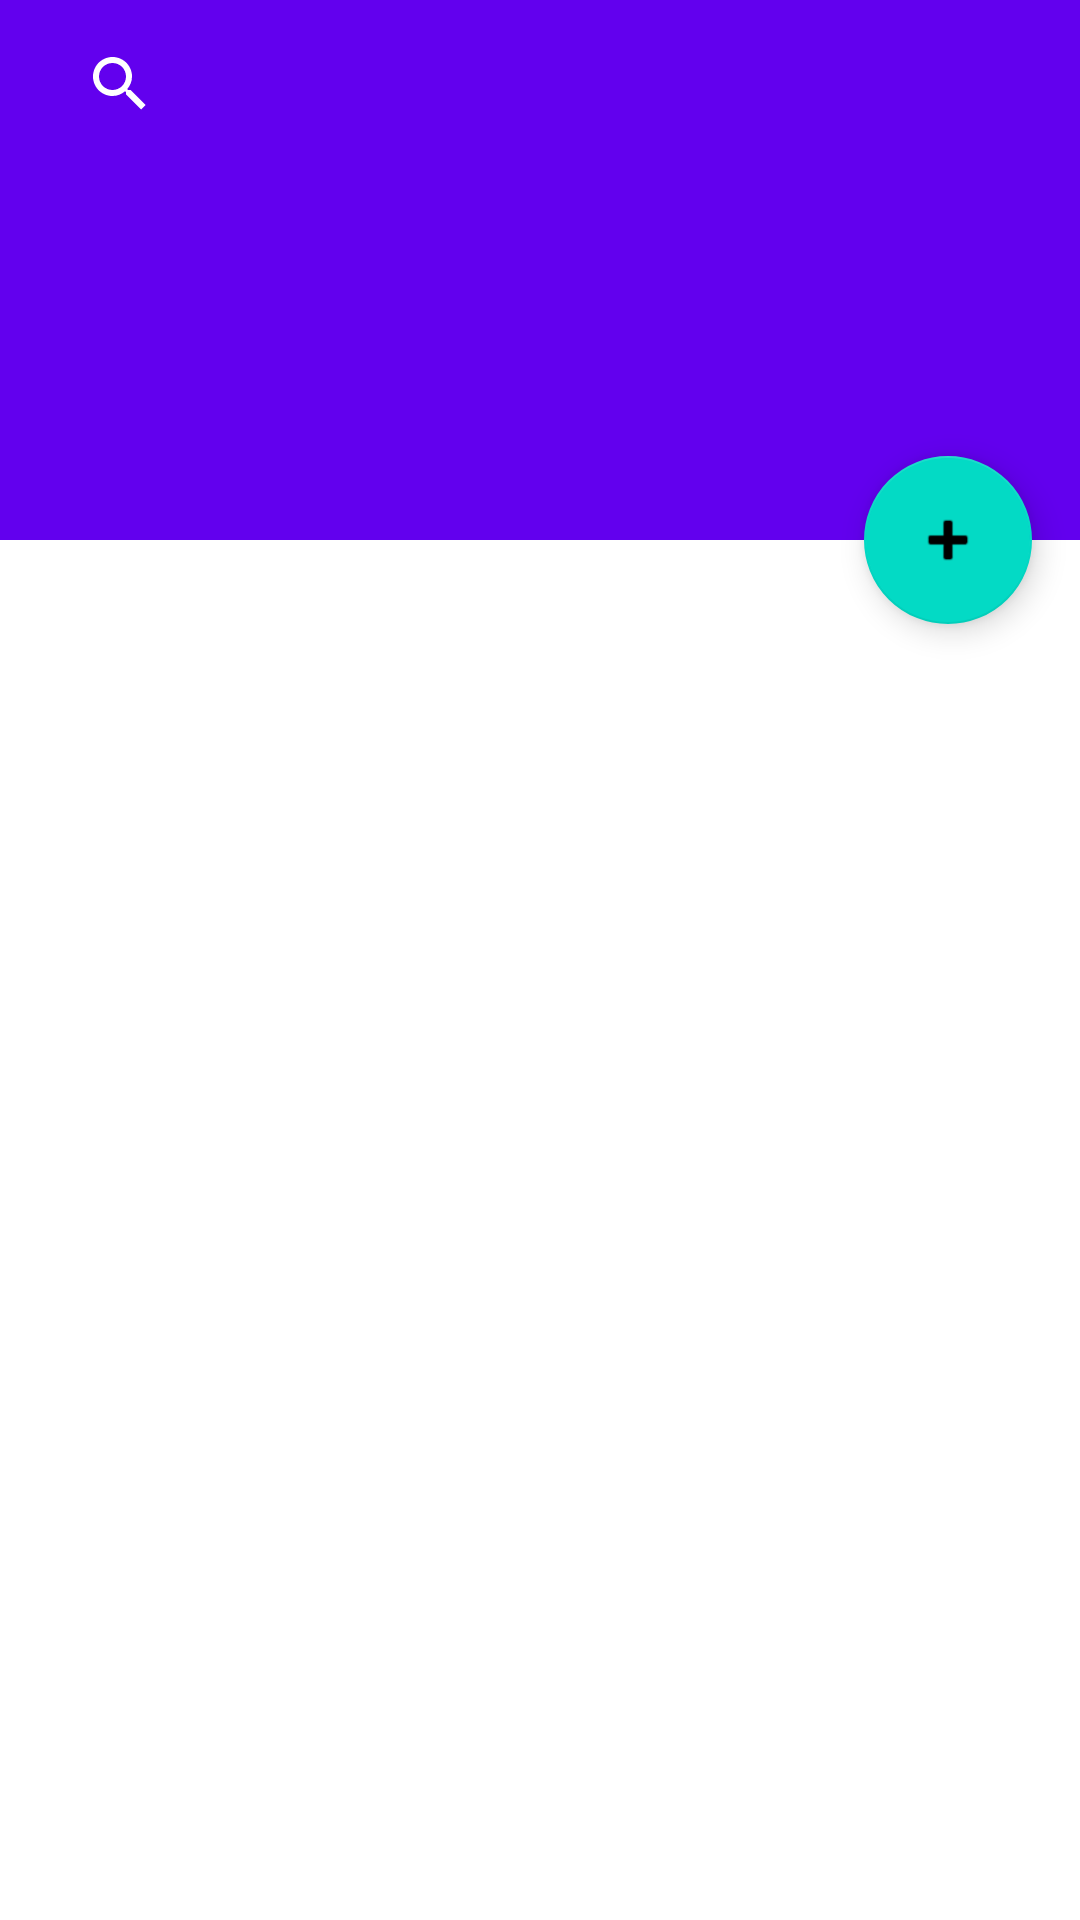

Named icons in this screenshot (1080w x 1920h) and their centers, (x=x, y=y):
add: (x=948, y=540)
